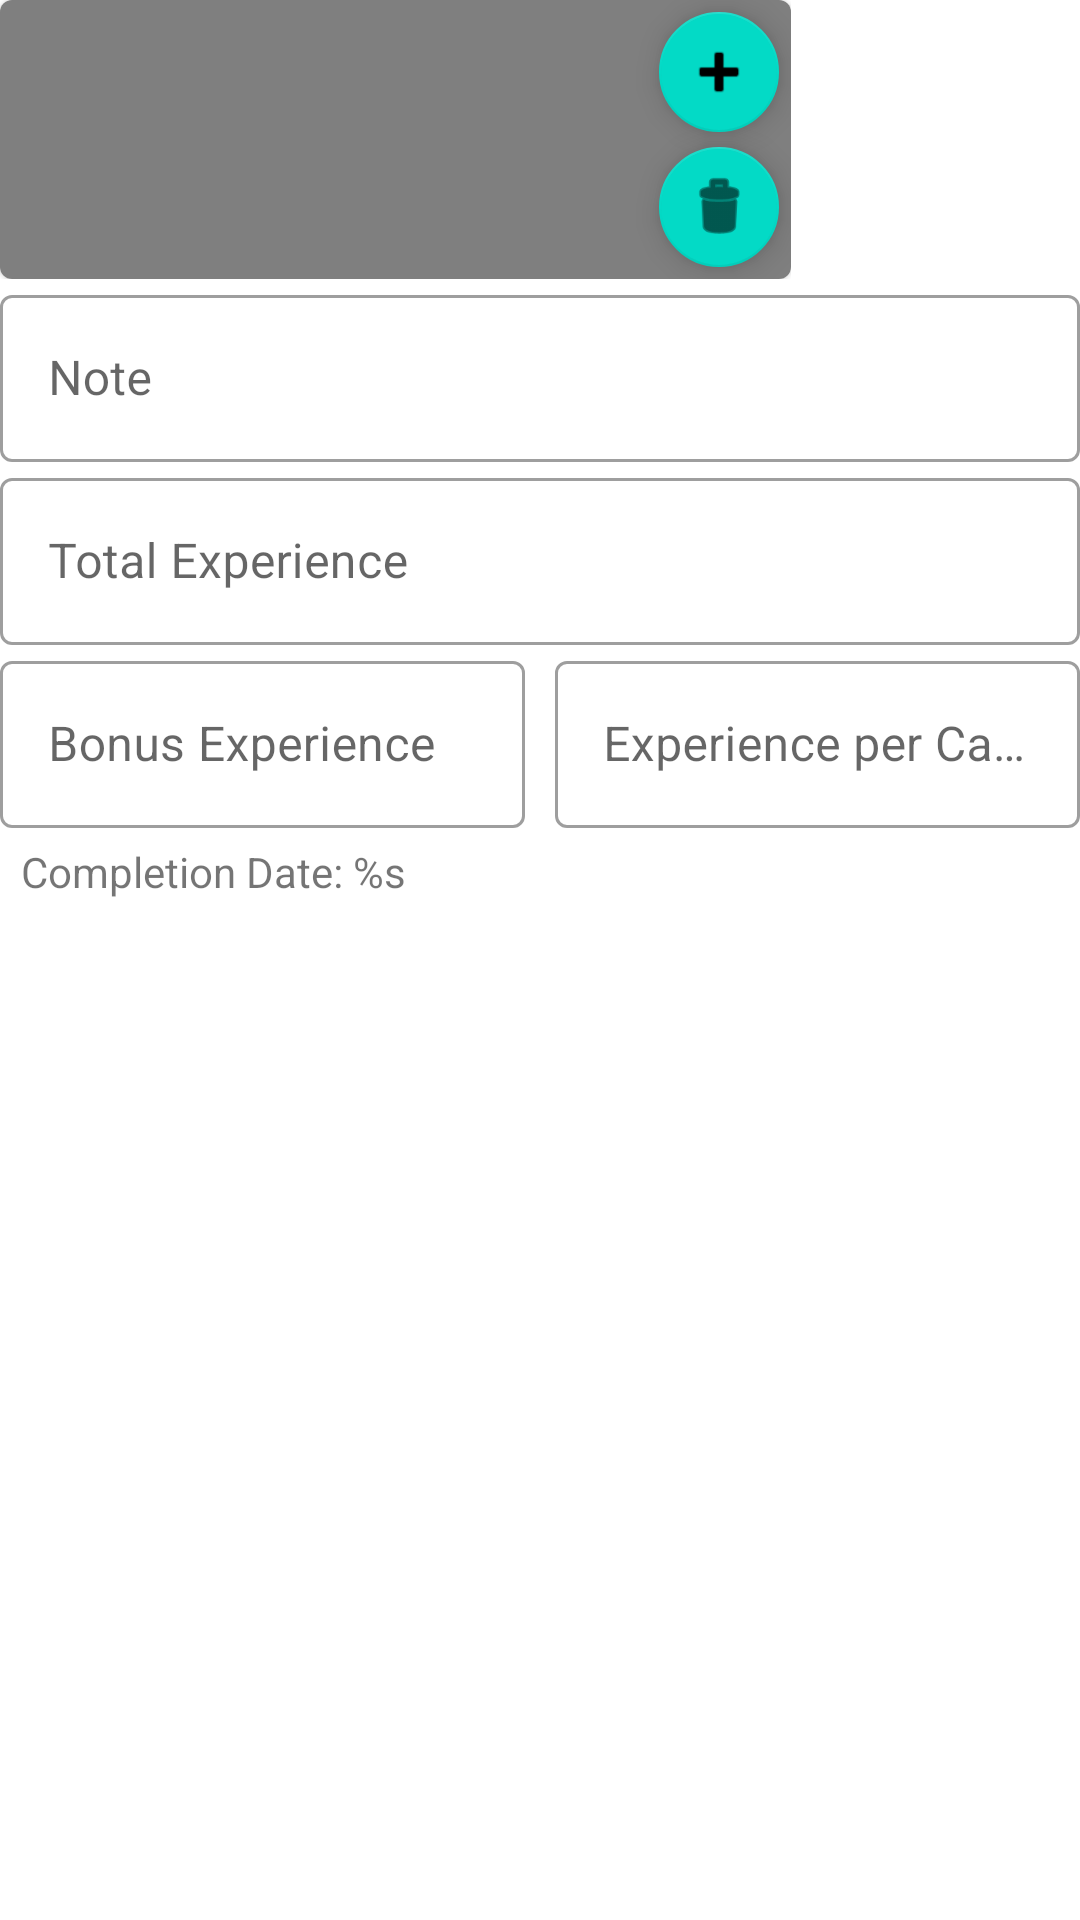

Icon click points for this 1080x1920 phone screenshot, format (x,y):
add: (719,72)
delete: (719,207)
